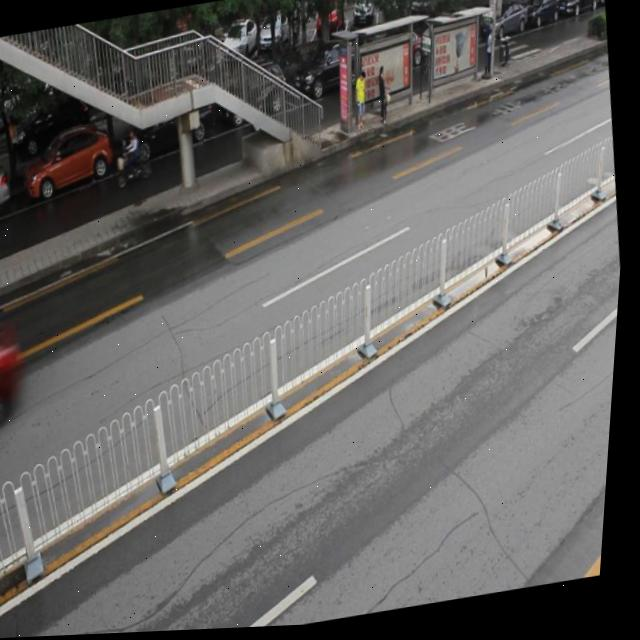car: (116, 94, 221, 166), (22, 128, 118, 198), (286, 42, 370, 108), (216, 63, 293, 134), (0, 157, 16, 220)
